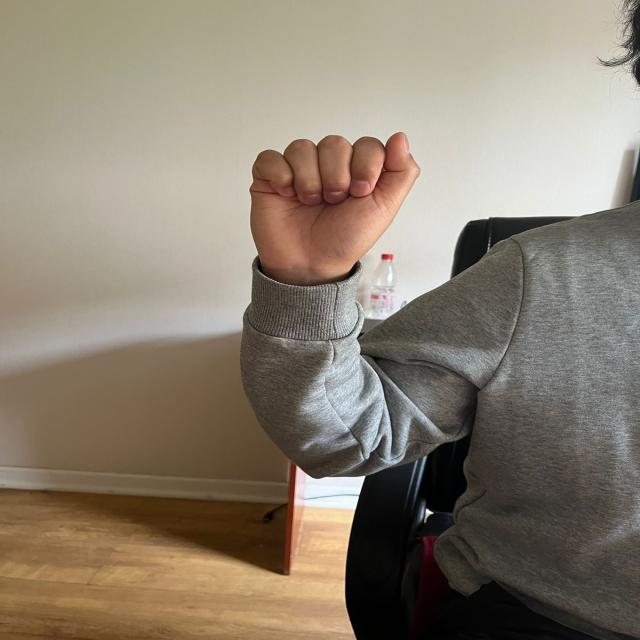A: (247, 125, 430, 278)
